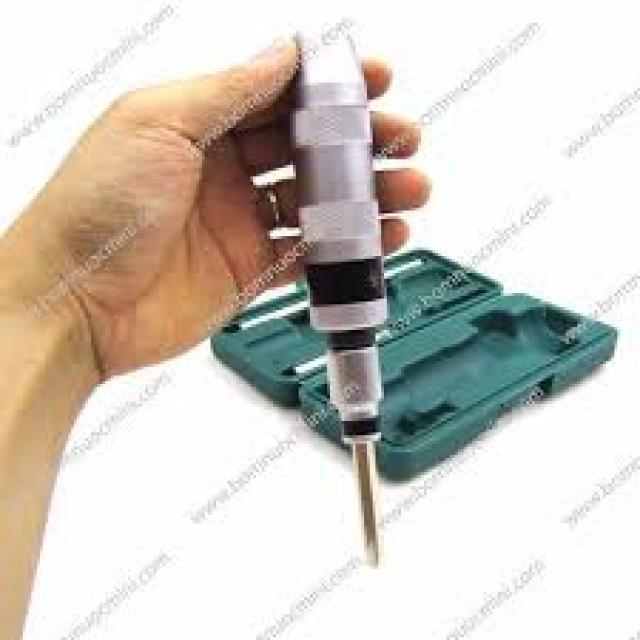screwdriver: (280, 24, 391, 573)
